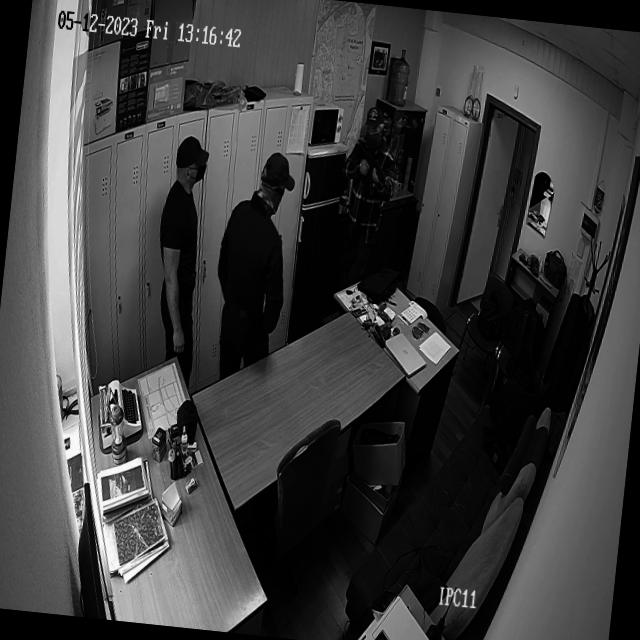gun: (356, 145, 392, 193)
person: (209, 150, 299, 384), (140, 135, 215, 386)
person with a gun: (332, 106, 400, 326)
